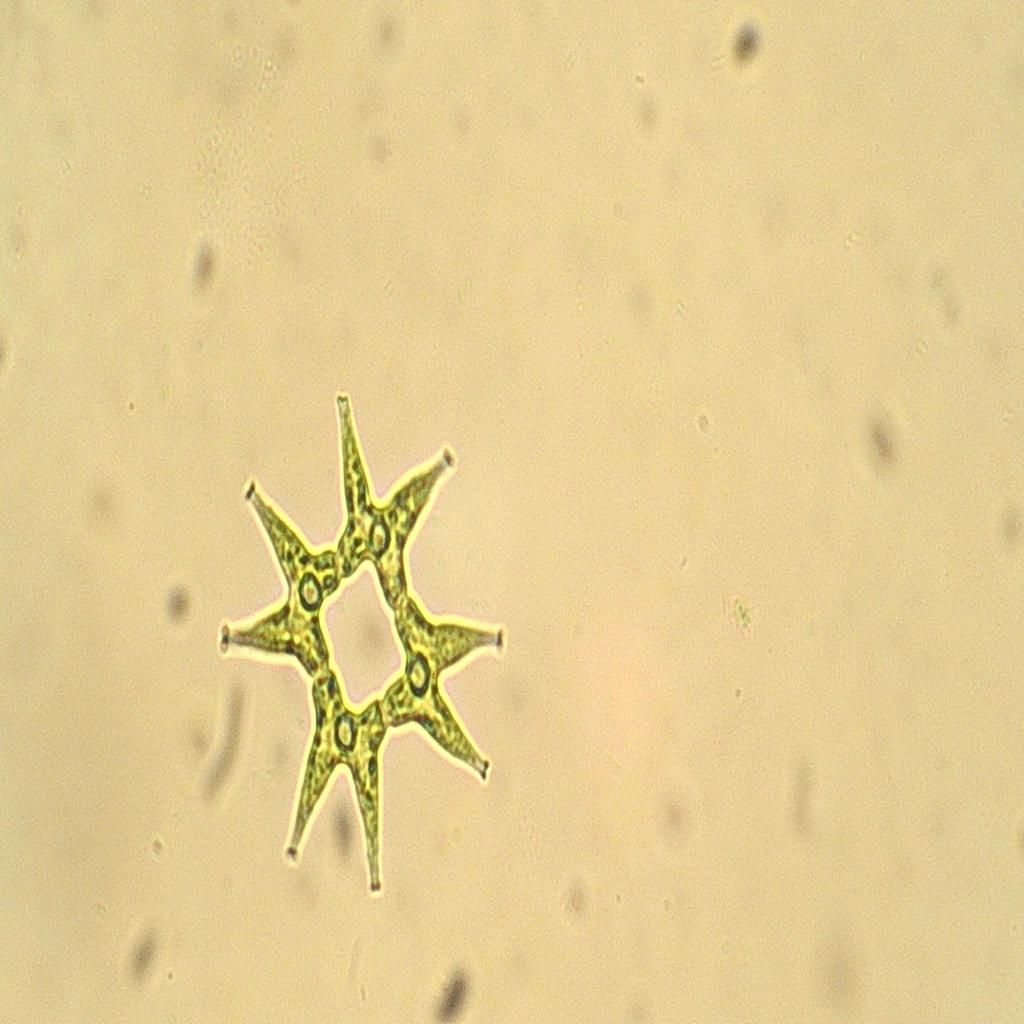Pediastrum_CO: (213, 368, 510, 916)
